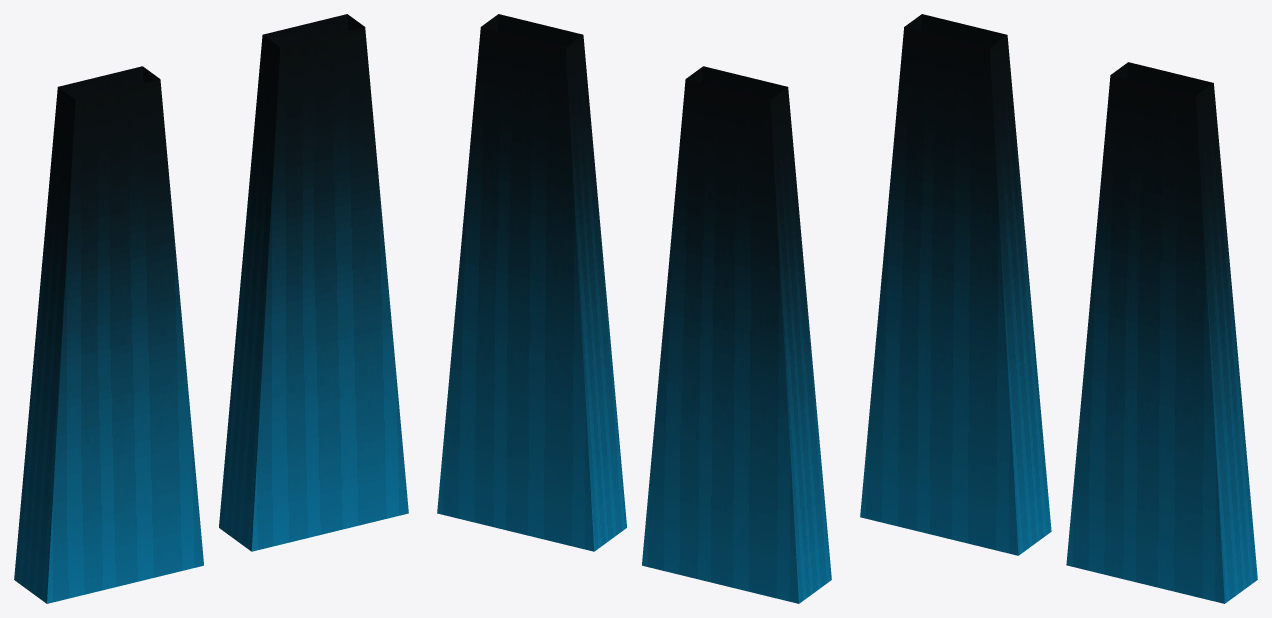
File: afterburner_wtf.obj
The picture shows the model from 3 angles, left to right: view 1: azimuth 30°, elevation 25°; view 2: azimuth 150°, elevation 25°; view 3: azimuth 330°, elevation 25°; orthographic projection.
Visible parts, largest first — view 1: group1; view 2: group1; view 3: group1.
Part boxes in pixels (bbox=[...]): group1: bbox=[14, 14, 408, 603]; group1: bbox=[437, 14, 831, 603]; group1: bbox=[860, 14, 1257, 603].
Bounding box in the file's own units: 508 × 660 × 79.89.
